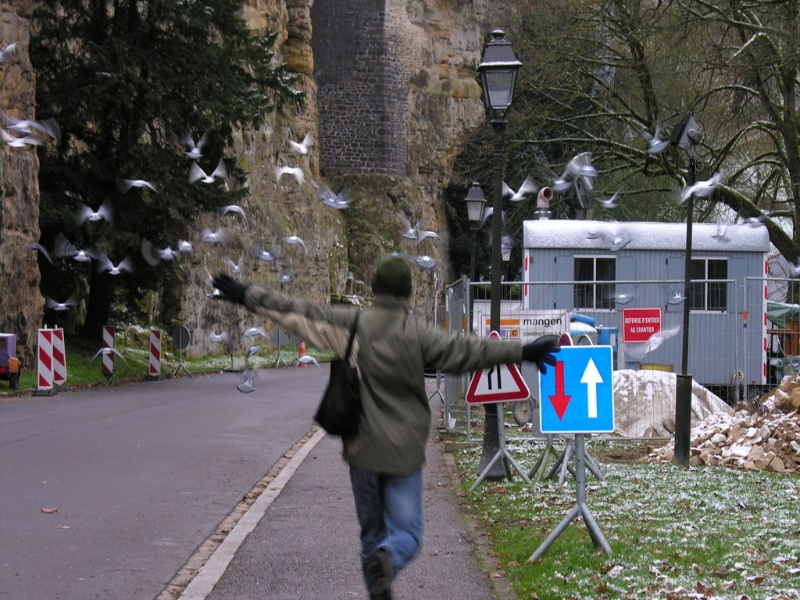straight_direction: (577, 356, 607, 421)
